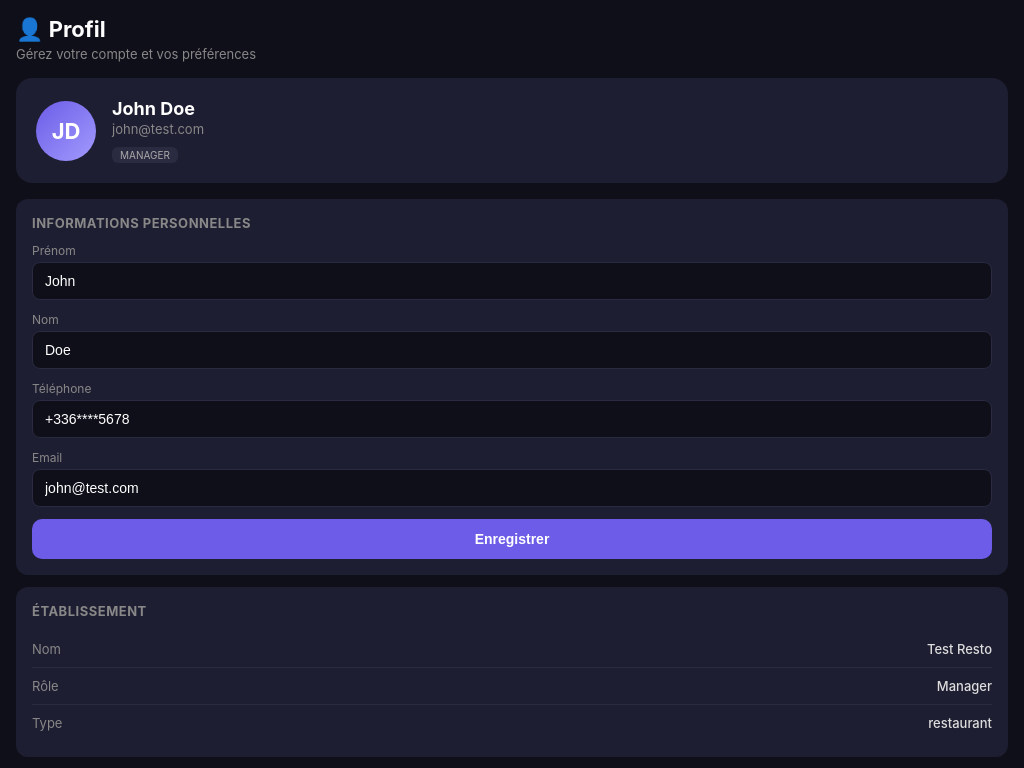
Profile.vue › saveProfile › affiche une erreur en cas d echec API
The width and height of the screenshot is (1024, 768).
Replace the text in the field below "Prénom" with "Jane" at (512, 281), box [32,262,992,300]
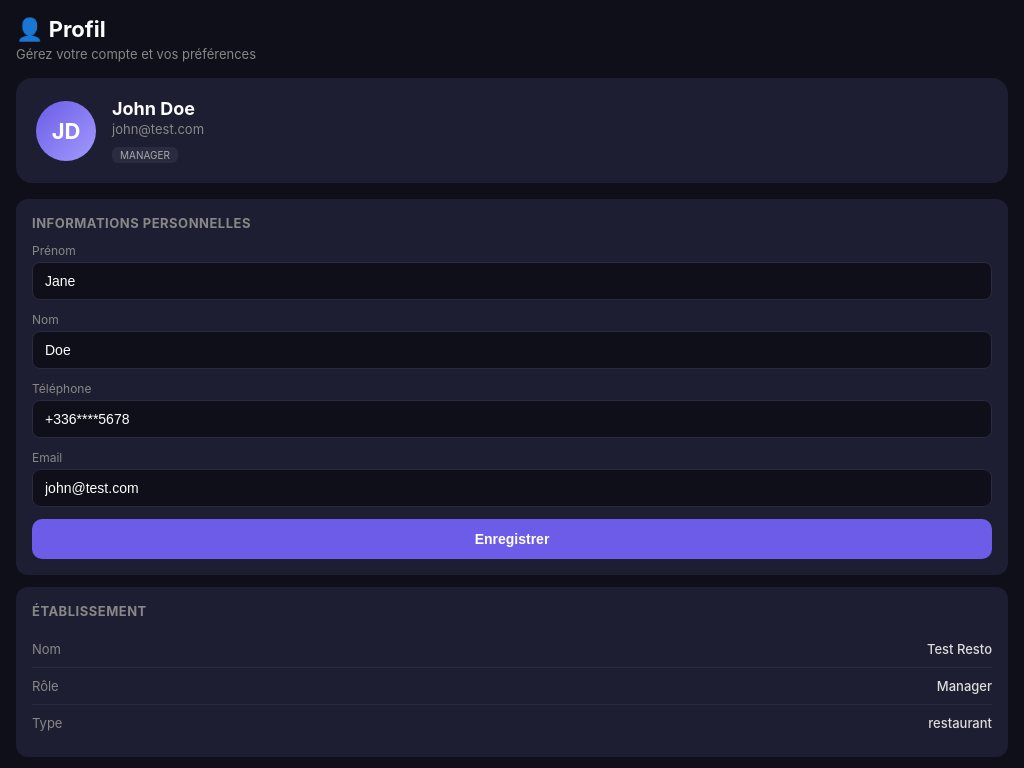
Click the button with class "btn-save" at (512, 539), box [32,519,992,559]
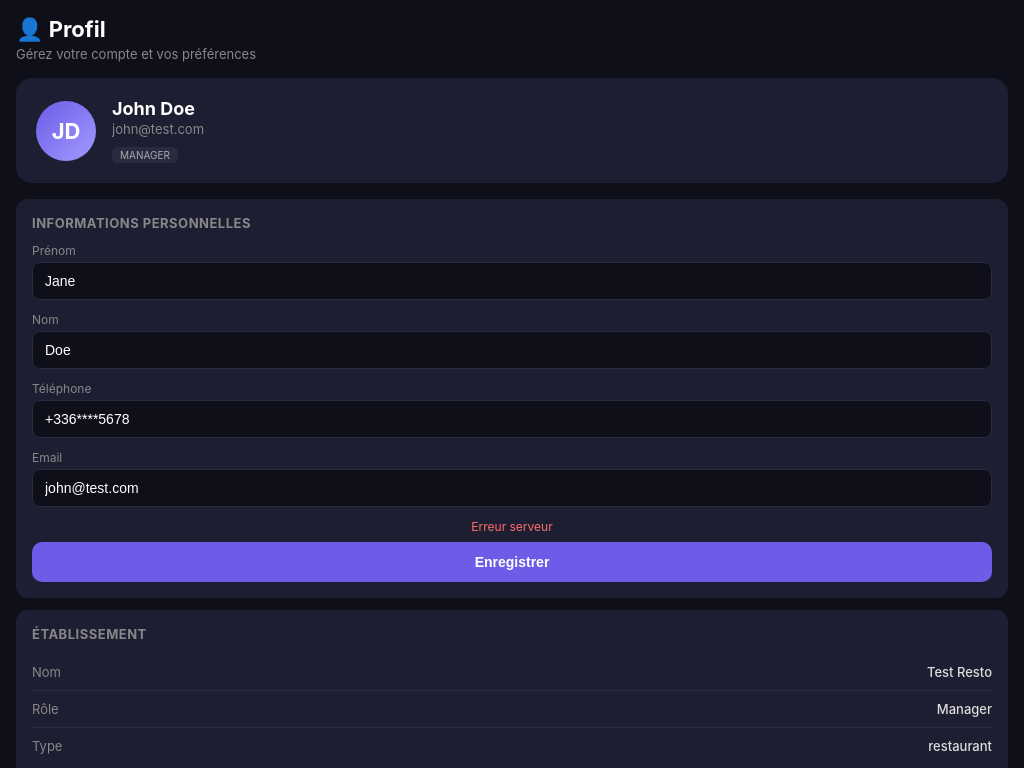
Expected: the text "Erreur" is shown, [471,519,553,534]
